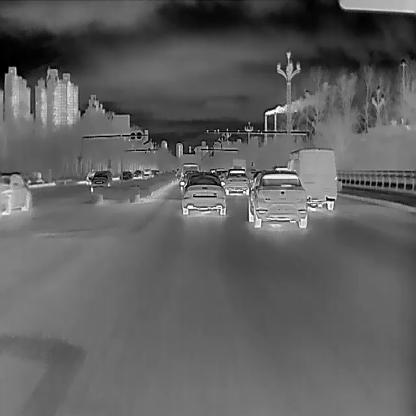car: (248, 170, 308, 228), (287, 147, 337, 210), (180, 175, 227, 215), (0, 171, 31, 215), (221, 170, 247, 194), (90, 171, 113, 192), (180, 169, 200, 190), (180, 163, 200, 181), (120, 170, 133, 182), (141, 168, 152, 182), (132, 169, 143, 181)
